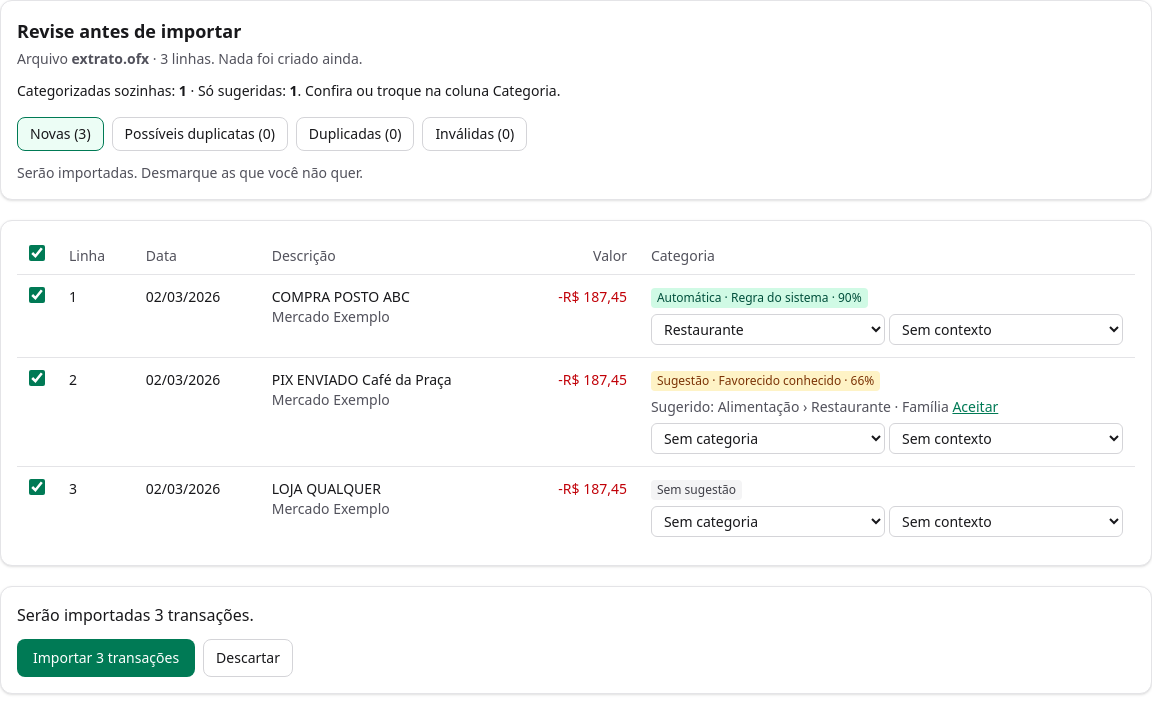
it: ImportReview: classificação das linhas › mostra o erro do servidor ao trocar e não perde a linha
Select "Alimentação (geral)" in the dropdown named "Categoria da linha 3": (768, 522) [651,506,885,537]
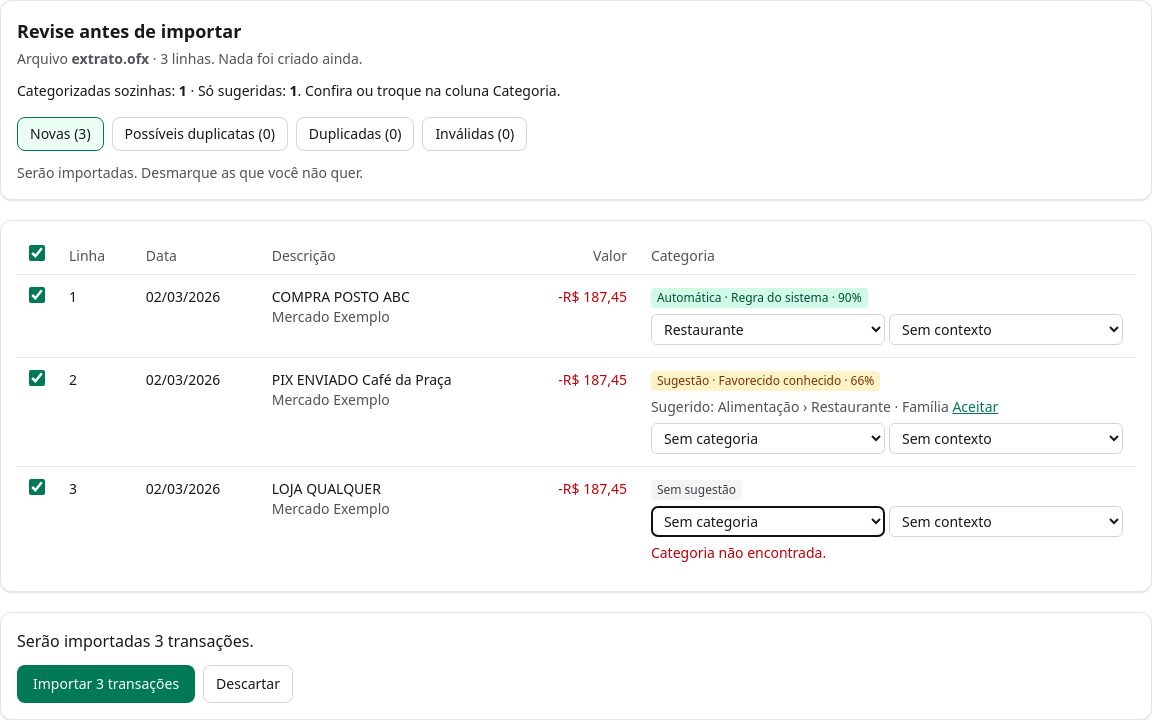
Expected: the text "LOJA QUALQUER" is shown, [272,479,381,498]
Expected: the message reads "Categoria não encontrada.", [651,543,826,562]
